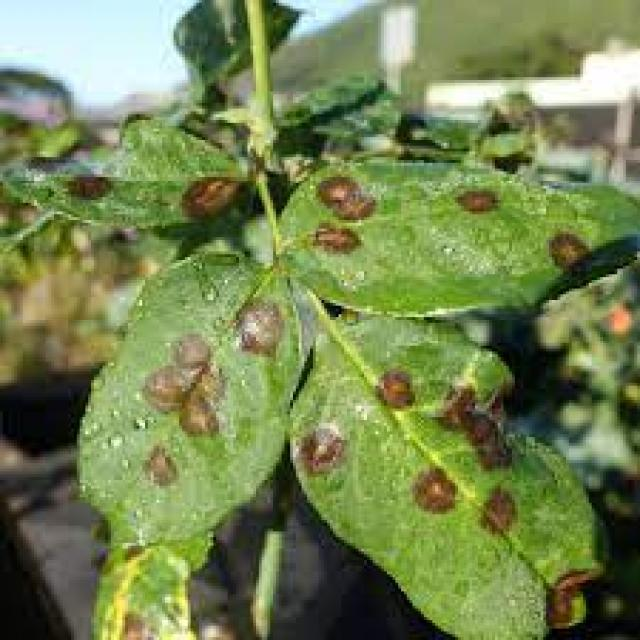black-spot: (374, 370, 590, 535), (144, 332, 250, 463), (296, 188, 410, 280)
